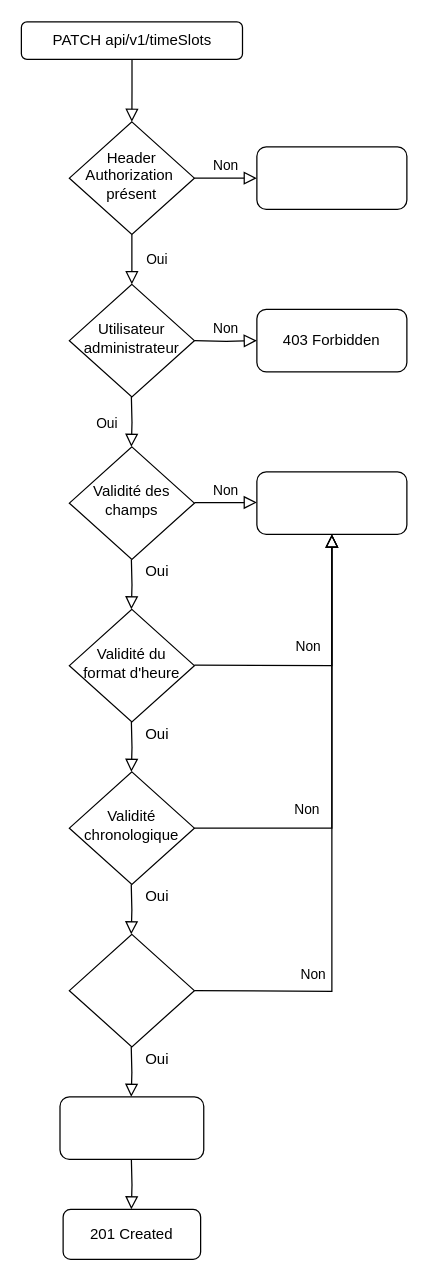
Image size: 430x1281. Some labels were removed from this diagram. The centre of each missing label's shape, as x and y in pixels:
"400 Bad Request" goes at point 331,502.
"401 Unauthorized" goes at point 331,177.
"Chevauchement d'horaire" goes at point 131,990.
"Création du créneau horaire dans la base de données" goes at point 131,1127.
